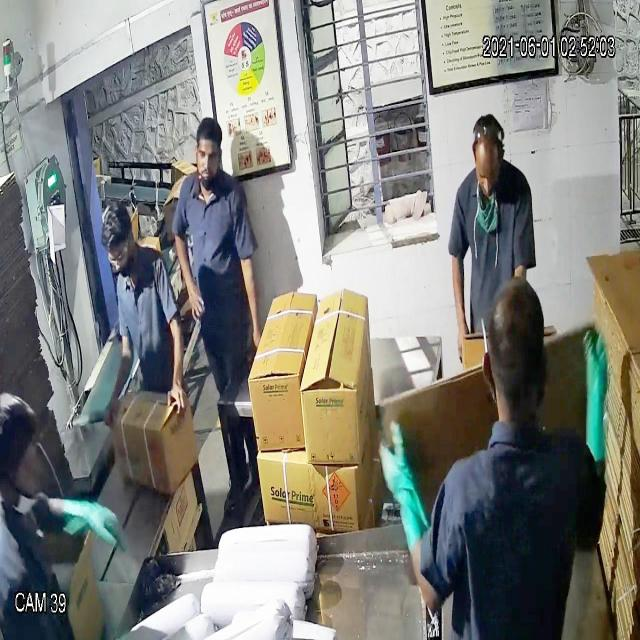glasses: (98, 238, 134, 276)
